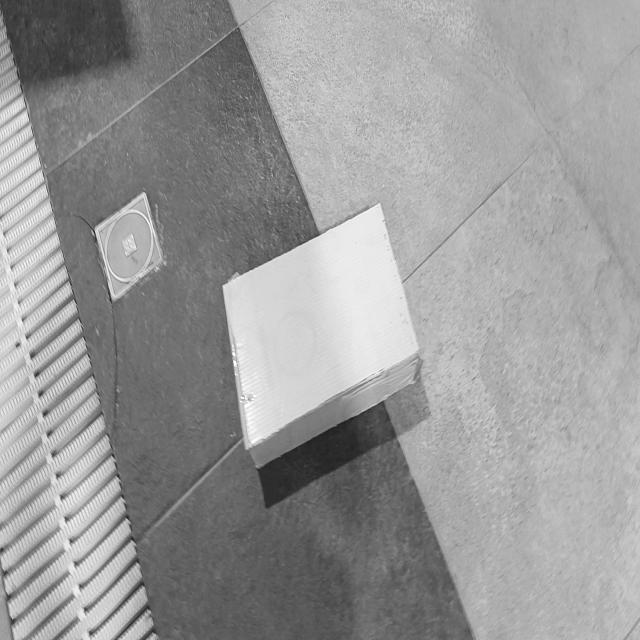Cuboid: (221, 200, 421, 470)
